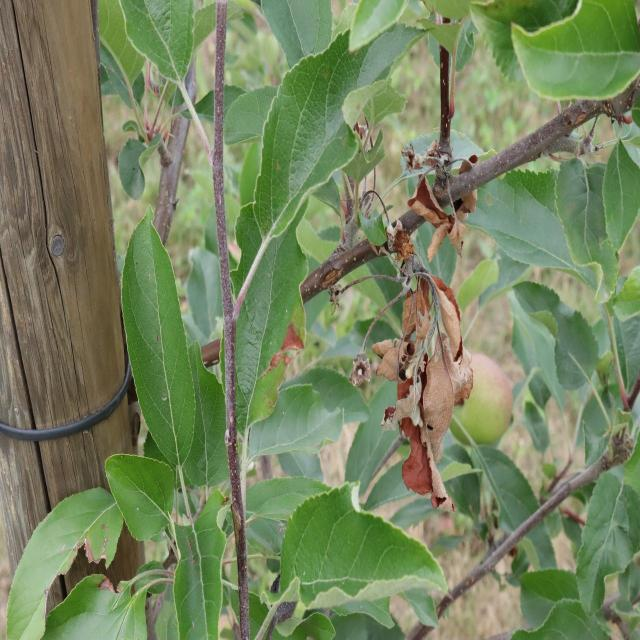-FireBlight-: (352, 191, 478, 524)
